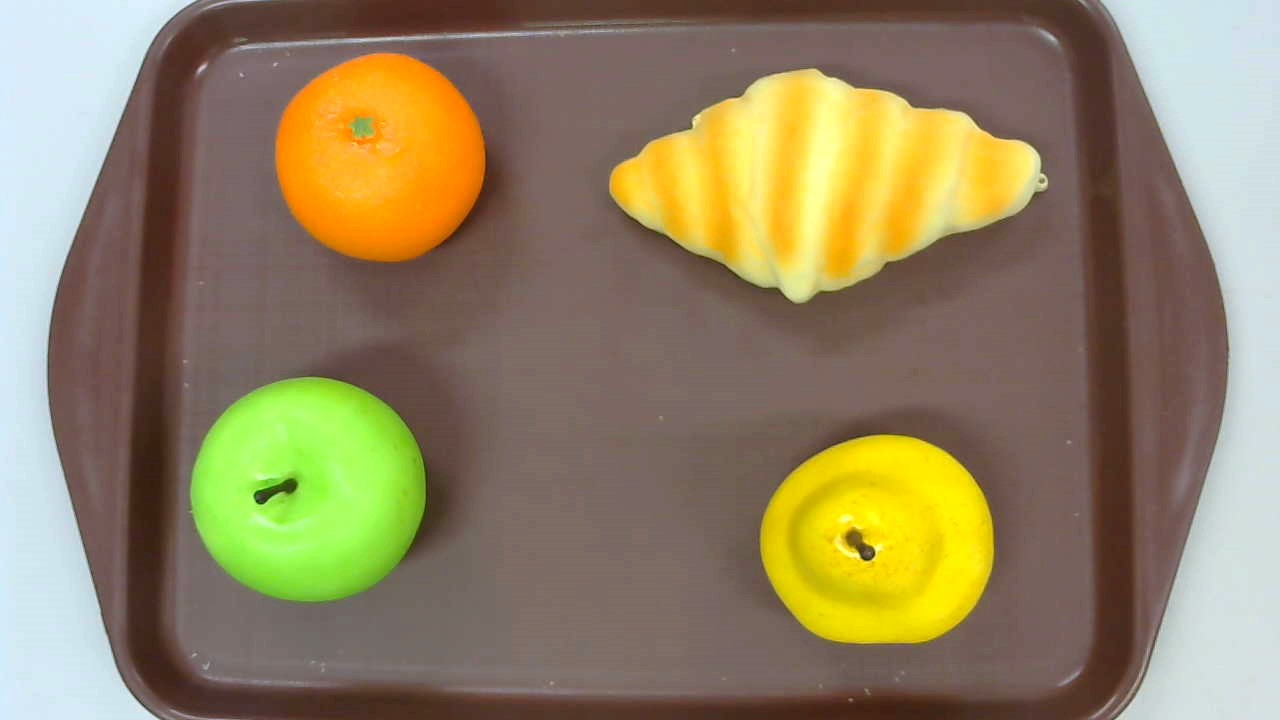croissant: (608, 68, 1048, 305)
green apple: (190, 377, 426, 601)
orange: (275, 53, 485, 263)
yellow pear: (760, 435, 994, 647)
